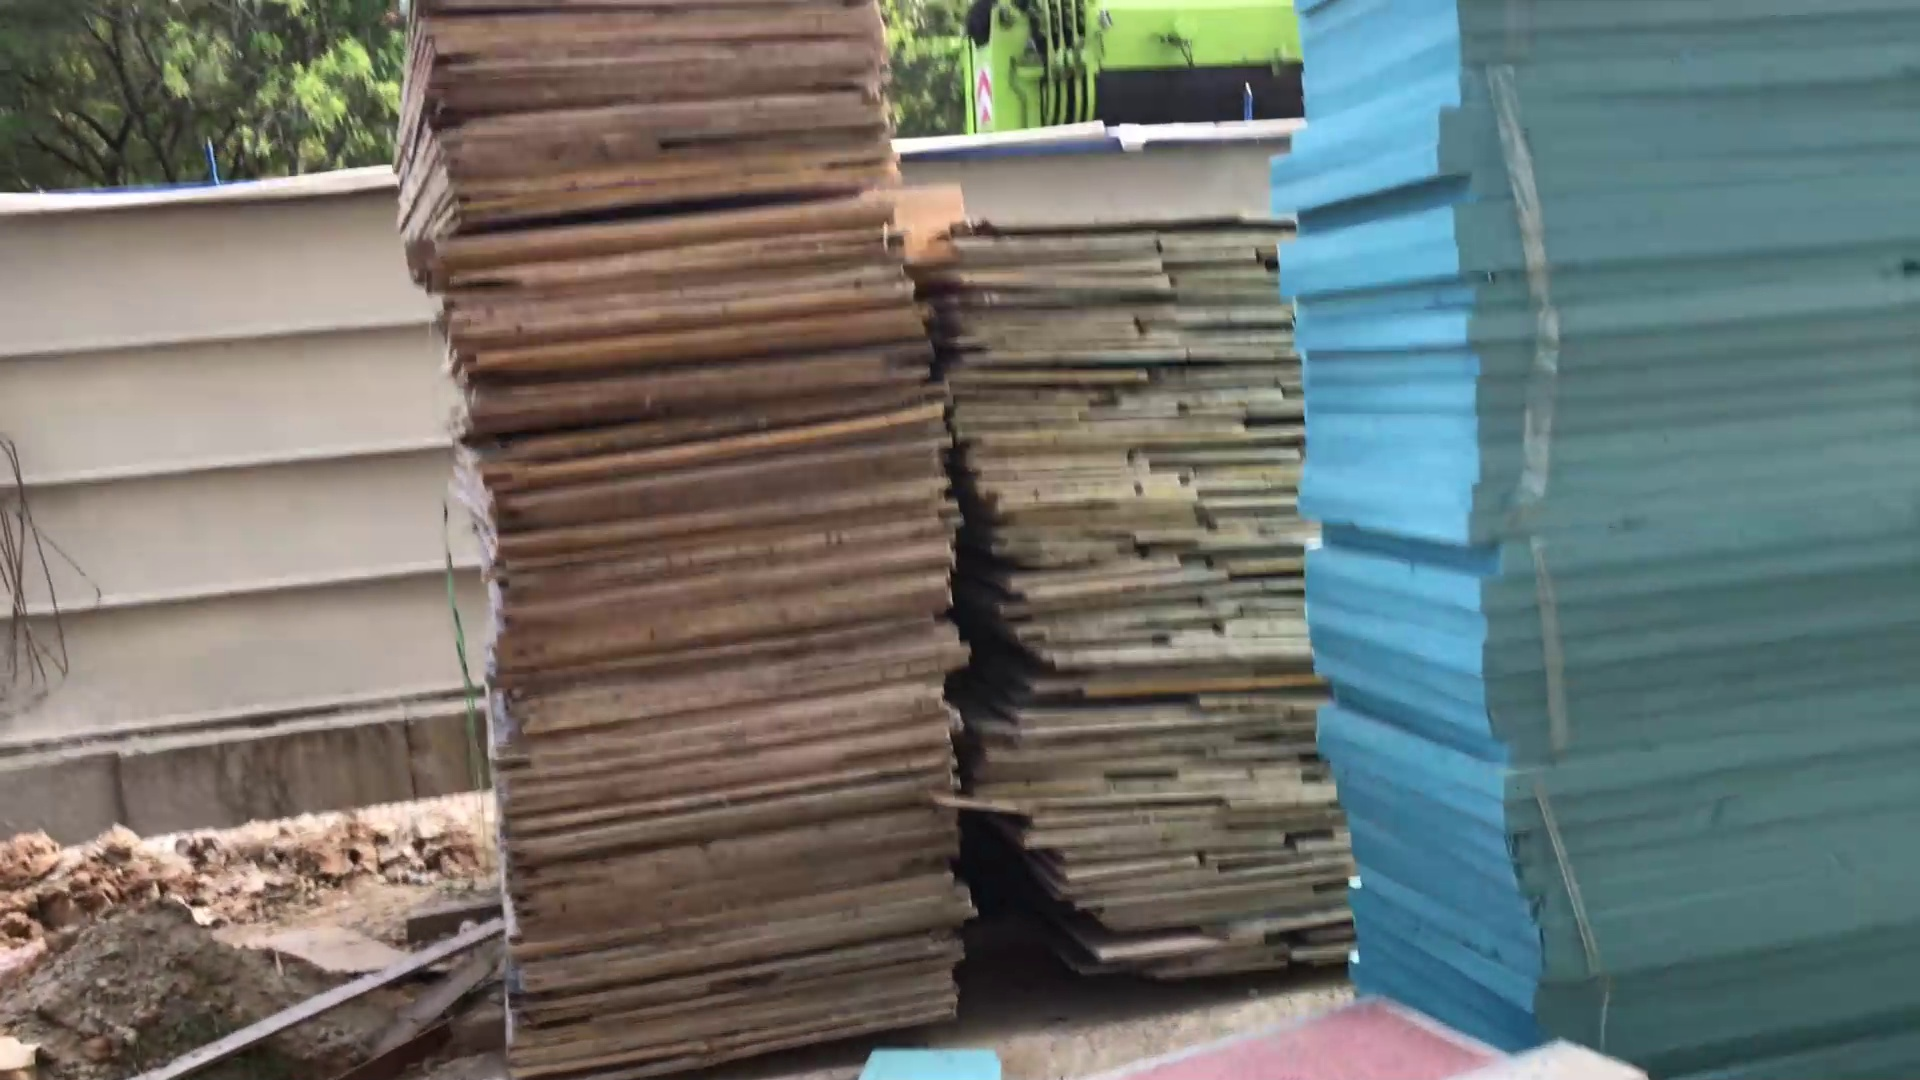board: (396, 1, 957, 1080), (920, 208, 1346, 973)
